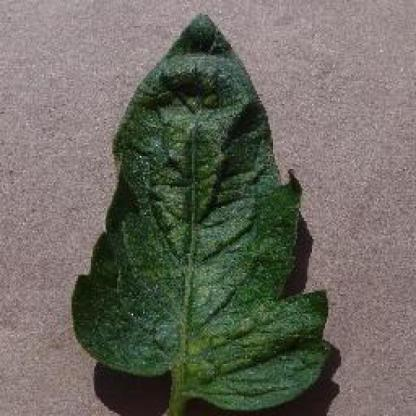Tomato_Spider_Mites: (70, 12, 332, 410)
